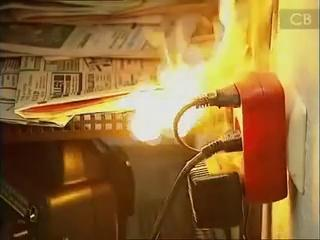Fire: (117, 1, 270, 117)
